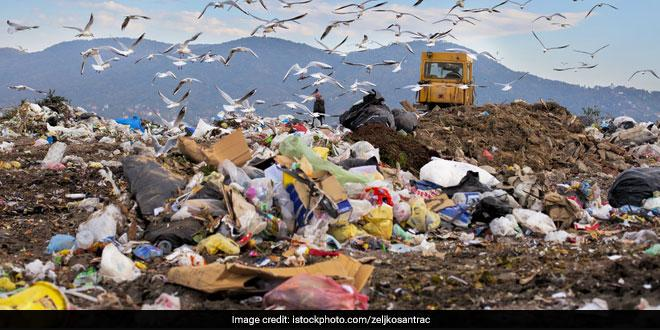garbage: (0, 97, 660, 330)
